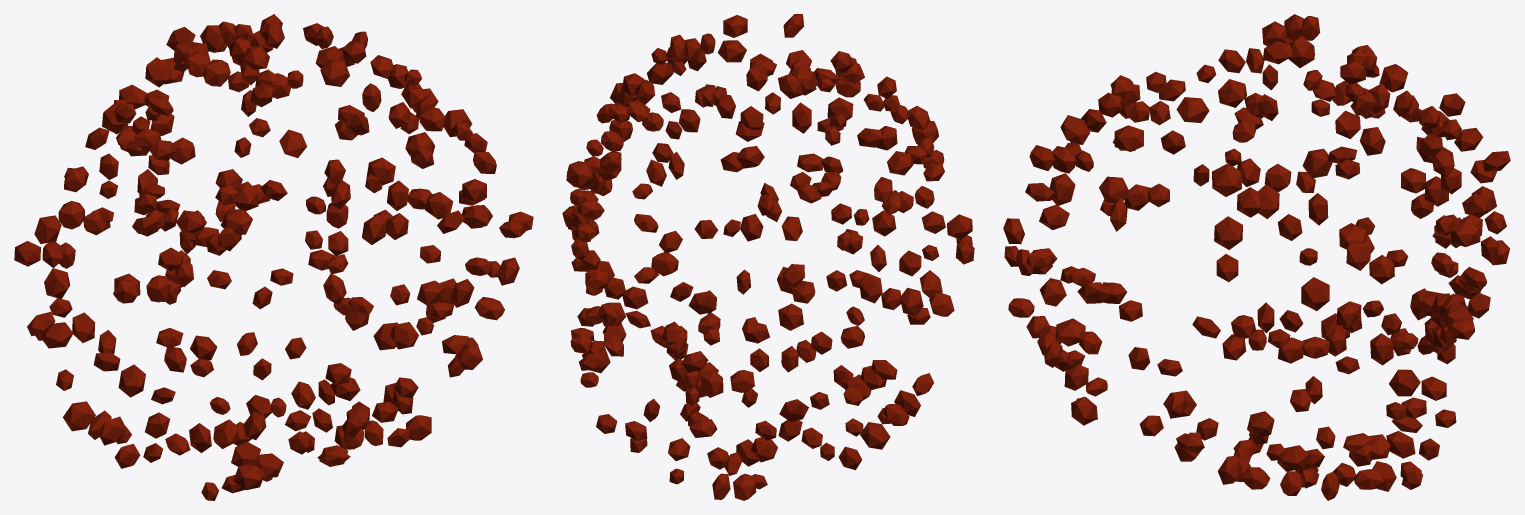
The model's file is asteroid3_iron.obj.
The picture shows the model from 3 angles, left to right: view 1: azimuth 30°, elevation 25°; view 2: azimuth 150°, elevation 25°; view 3: azimuth 270°, elevation 25°; orthographic projection. The views are drawn at different scales.
Visible parts, largest first — view 1: Icosphere; view 2: Icosphere; view 3: Icosphere.
Part boxes in pixels (x1,y1,x2,y2): Icosphere: [14, 14, 533, 500]; Icosphere: [562, 14, 974, 500]; Icosphere: [1003, 14, 1510, 500].
Bounding box in the file's own units: 13.35 × 13.86 × 13.89.
